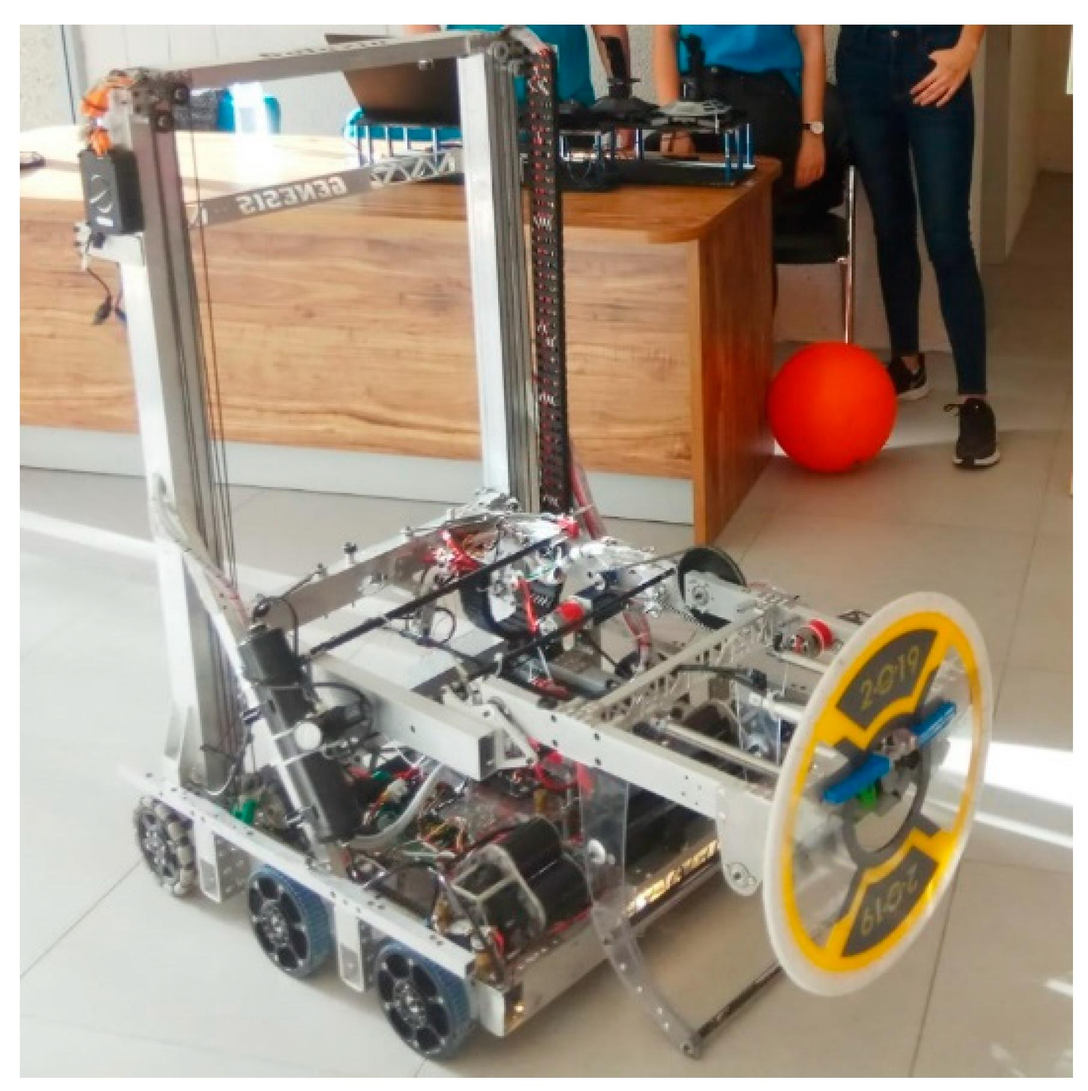robot: (69, 27, 1005, 1091)
